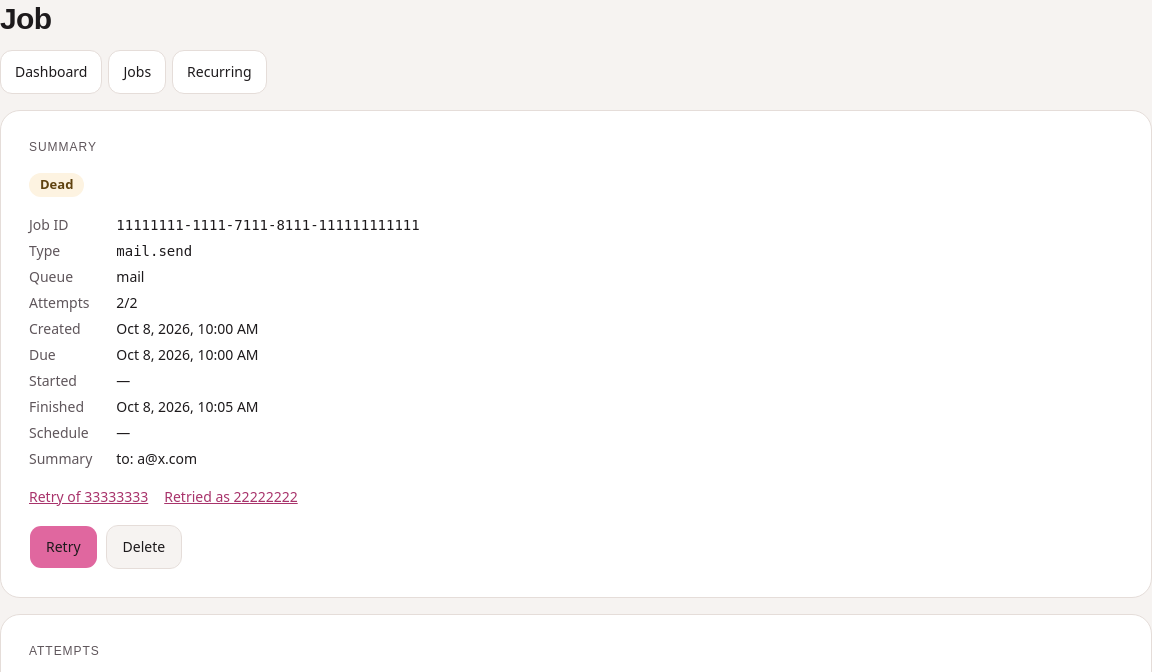
Scenario: maps a 409 to a friendly alert and stays on the page
Click the button "Delete" at [144, 546], box [106,524,182,568]
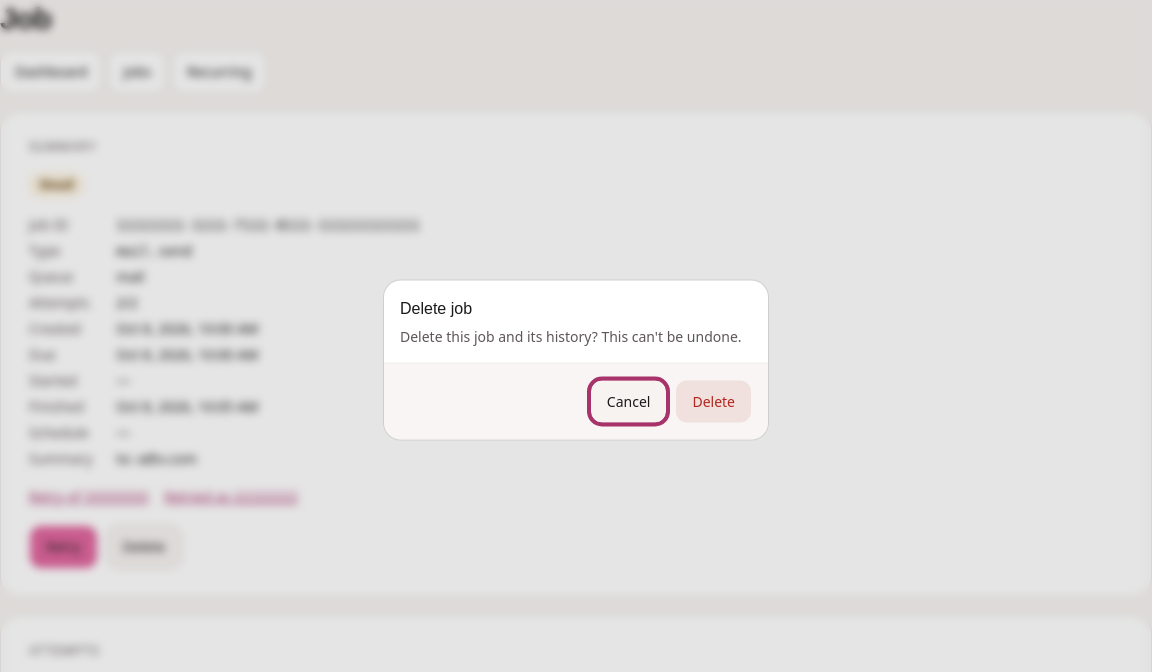
Click the button "Delete" at [714, 402], box [675,380,752,424]
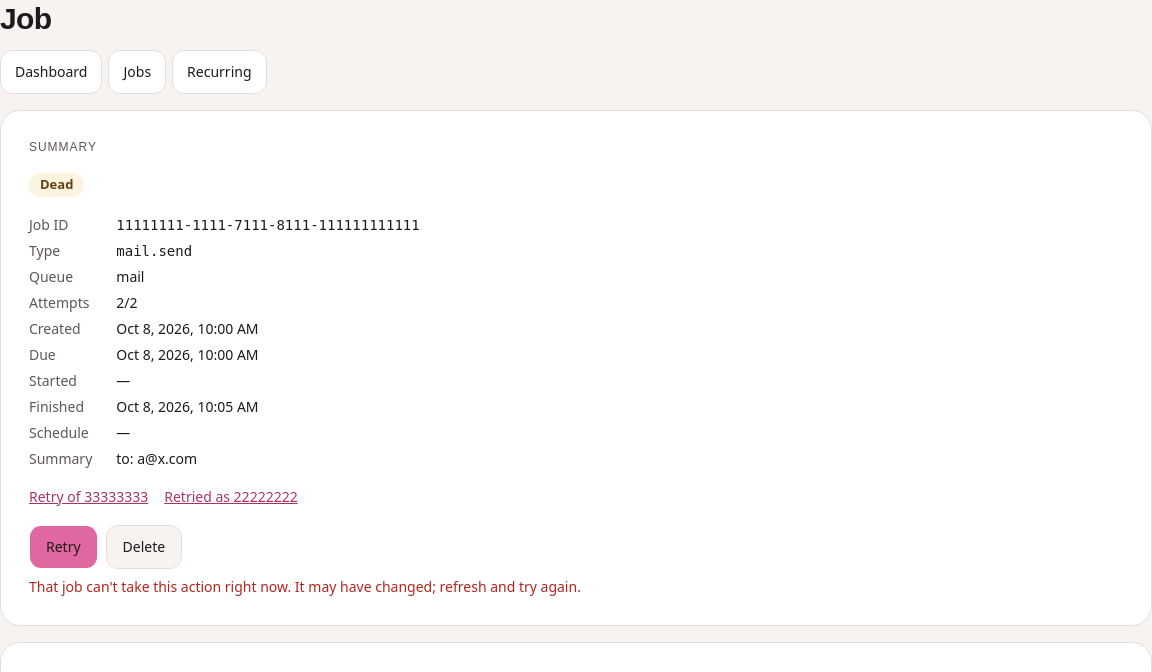
Expected: the text "11111111-1111-7111-8111-111111111111" is shown, [116,216,420,232]
Result: the message shows "can't take this action right now" at [29,576,581,596]
